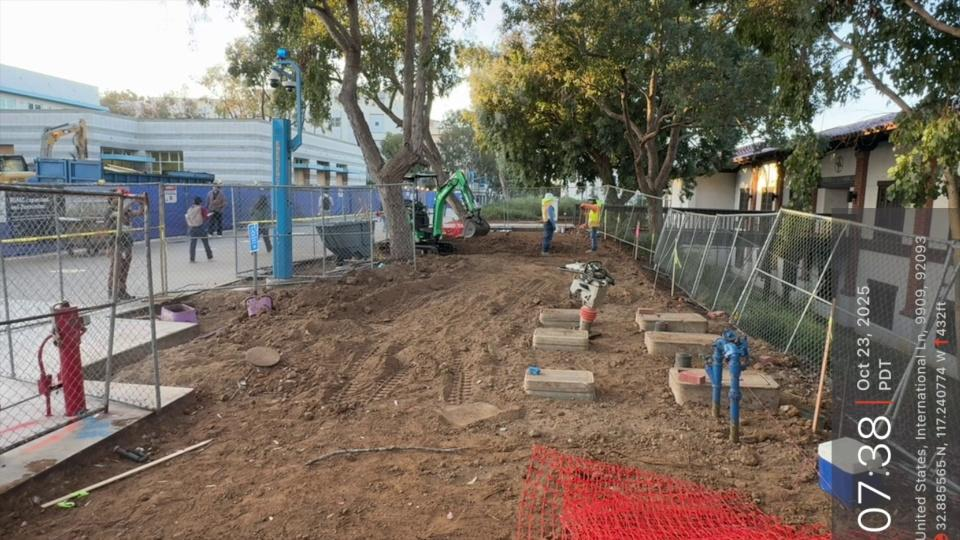Exacavator: (407, 185, 505, 271)
